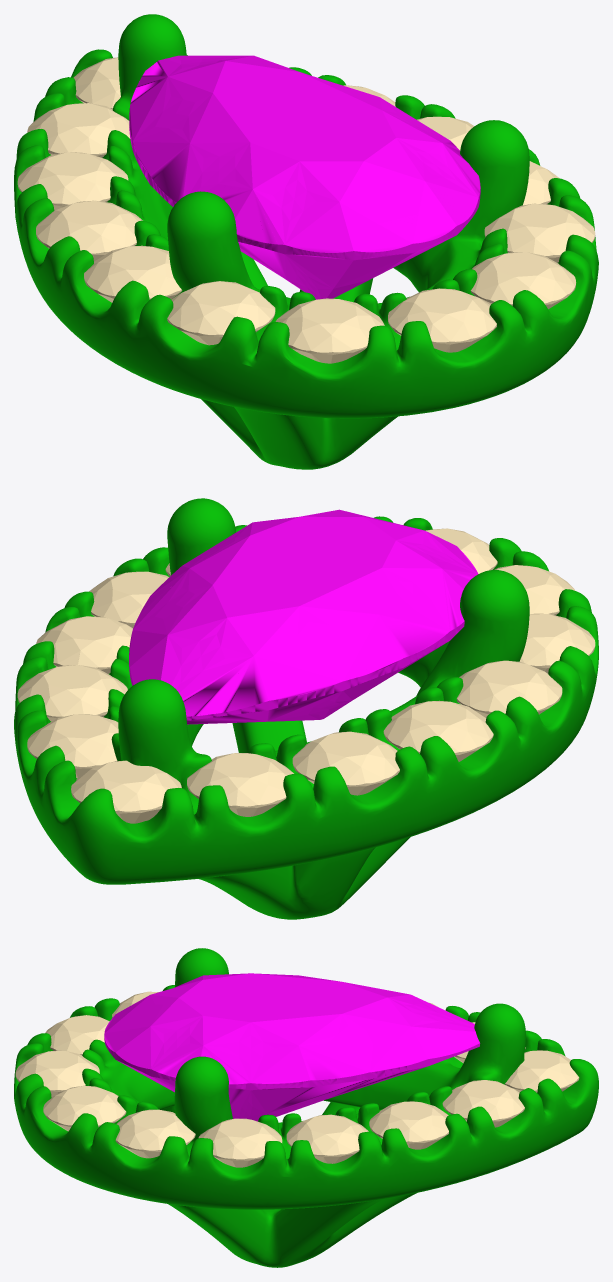
3 views of the same model, one above another, from view 1: azimuth 30°, elevation 25°; view 2: azimuth 150°, elevation 25°; view 3: azimuth 270°, elevation 25° (orthographic). The views are drawn at different scales.
Visible parts, largest first — view 1: Metal01, Diamond_Pear, Diamond_Round.001, Diamond_Round, Diamond_Round.002, Diamond_Round.013, Diamond_Round.004, Diamond_Round.005, Diamond_Round.012, Diamond_Round.003, Diamond_Round.006, Diamond_Round.007 (+2 smaller); view 2: Metal01, Diamond_Pear, Diamond_Round.005, Diamond_Round.006, Diamond_Round.004, Diamond_Round.003, Diamond_Round.007, Diamond_Round.009, Diamond_Round.008, Diamond_Round.010, Diamond_Round.002, Diamond_Round.011 (+2 smaller); view 3: Metal01, Diamond_Pear, Diamond_Round.009, Diamond_Round.011, Diamond_Round.010, Diamond_Round.012, Diamond_Round.013, Diamond_Round.008, Diamond_Round, Diamond_Round.007, Diamond_Round.001.
Boxes of the visible parts, box(x1,y1,x2,y2) form: Metal01: box(14, 14, 598, 469); Diamond_Pear: box(129, 55, 480, 299); Diamond_Round.001: box(275, 298, 384, 363); Diamond_Round: box(388, 288, 496, 352); Diamond_Round.002: box(167, 281, 275, 345); Diamond_Round.013: box(470, 252, 576, 309); Diamond_Round.004: box(36, 200, 142, 261); Diamond_Round.005: box(17, 152, 128, 210); Diamond_Round.012: box(484, 203, 595, 262); Diamond_Round.003: box(84, 245, 182, 302); Diamond_Round.006: box(27, 103, 130, 157); Diamond_Round.007: box(73, 57, 120, 109); Metal01: box(14, 498, 598, 919); Diamond_Pear: box(129, 509, 478, 724); Diamond_Round.005: box(292, 731, 399, 795); Diamond_Round.006: box(187, 753, 293, 816); Diamond_Round.004: box(383, 700, 493, 761); Diamond_Round.003: box(456, 660, 562, 717); Diamond_Round.007: box(71, 760, 181, 823); Diamond_Round.009: box(17, 665, 127, 721); Diamond_Round.008: box(27, 714, 118, 778); Diamond_Round.010: box(36, 616, 132, 673); Diamond_Round.002: box(519, 613, 595, 673); Diamond_Round.011: box(89, 571, 168, 628); Metal01: box(14, 948, 598, 1267); Diamond_Pear: box(104, 973, 480, 1121); Diamond_Round.009: box(369, 1101, 448, 1149); Diamond_Round.011: box(198, 1118, 282, 1167); Diamond_Round.010: box(286, 1114, 368, 1163); Diamond_Round.012: box(115, 1109, 195, 1158); Diamond_Round.013: box(43, 1085, 126, 1131); Diamond_Round.008: box(442, 1080, 524, 1127); Diamond_Round: box(15, 1050, 99, 1097); Diamond_Round.007: box(505, 1050, 579, 1092); Diamond_Round.001: box(45, 1015, 109, 1055).
Size of the model in its own units: 7.59 by 5.28 by 10.76.
